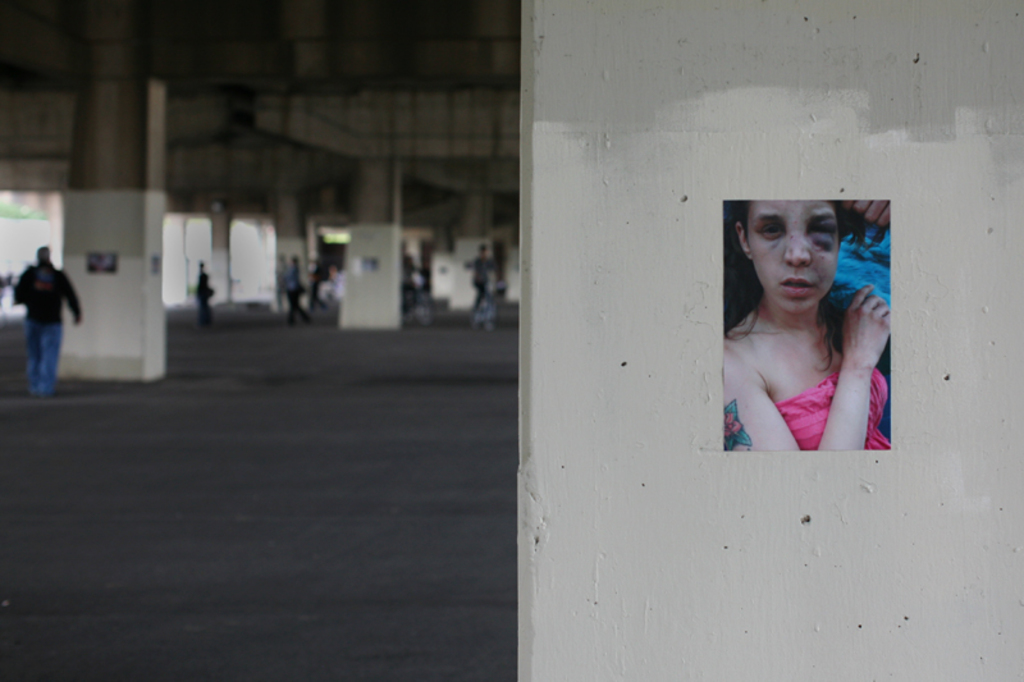face: (741, 204, 841, 312)
person: (719, 198, 896, 453), (16, 241, 89, 394), (462, 238, 497, 327), (396, 238, 432, 323), (279, 253, 315, 330), (190, 254, 217, 327)
